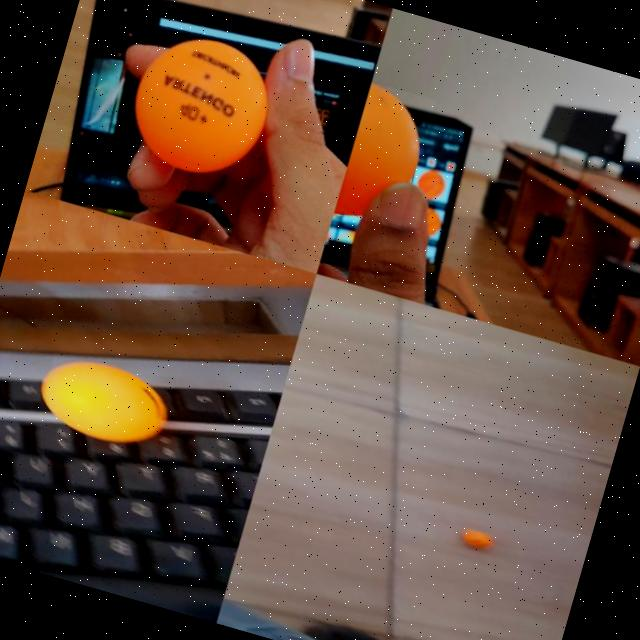ping-pong-ball: (120, 25, 282, 188), (334, 81, 436, 231), (35, 351, 174, 451), (459, 526, 494, 552)
